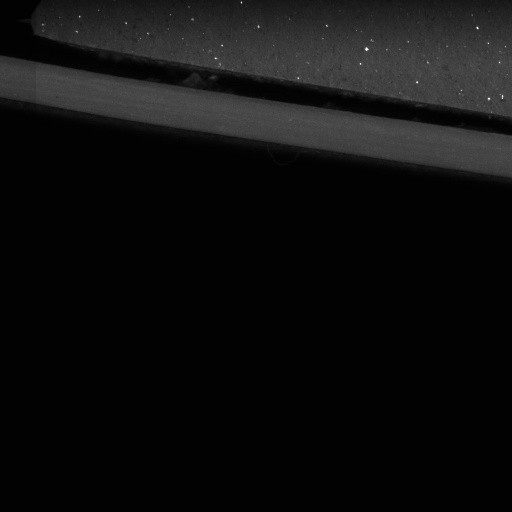kaijiao: (0, 26, 511, 181)
